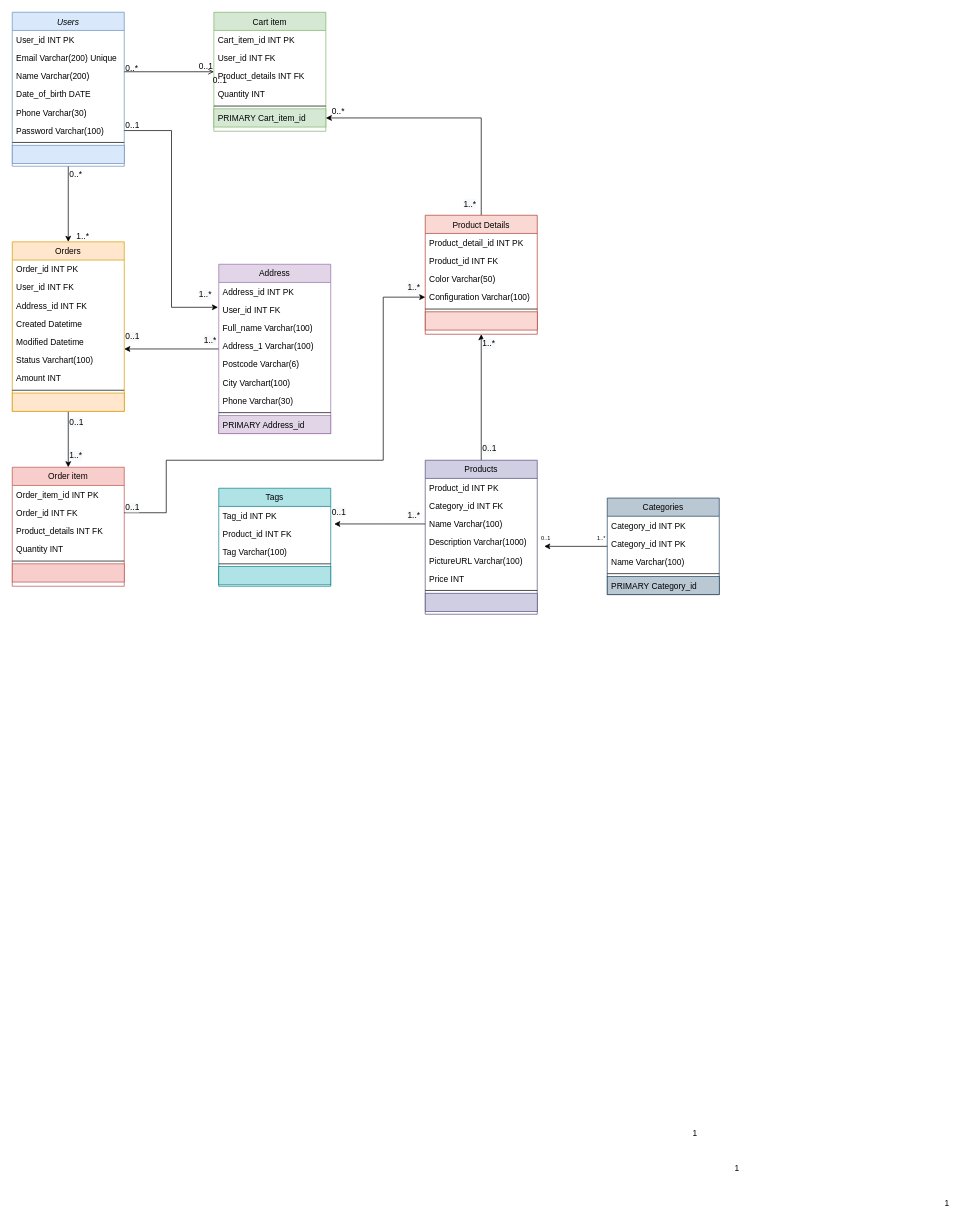
The diagram is 963 pixels wide and 1222 high, and some of its shapes have lost their labels. The shapes that lost their labels are listed below. From the top down, each one's centre as x and y in pixels, then its label:
pixel 68 154: PRIMARY User_id
pixel 481 320: PRIMARY Product_detail_id
pixel 68 401: PRIMARY Order_id
pixel 68 572: PRIMARY Order_item_id
pixel 274 575: PRIMARY Tag_id
pixel 481 602: PRIMARY Prouct_id
